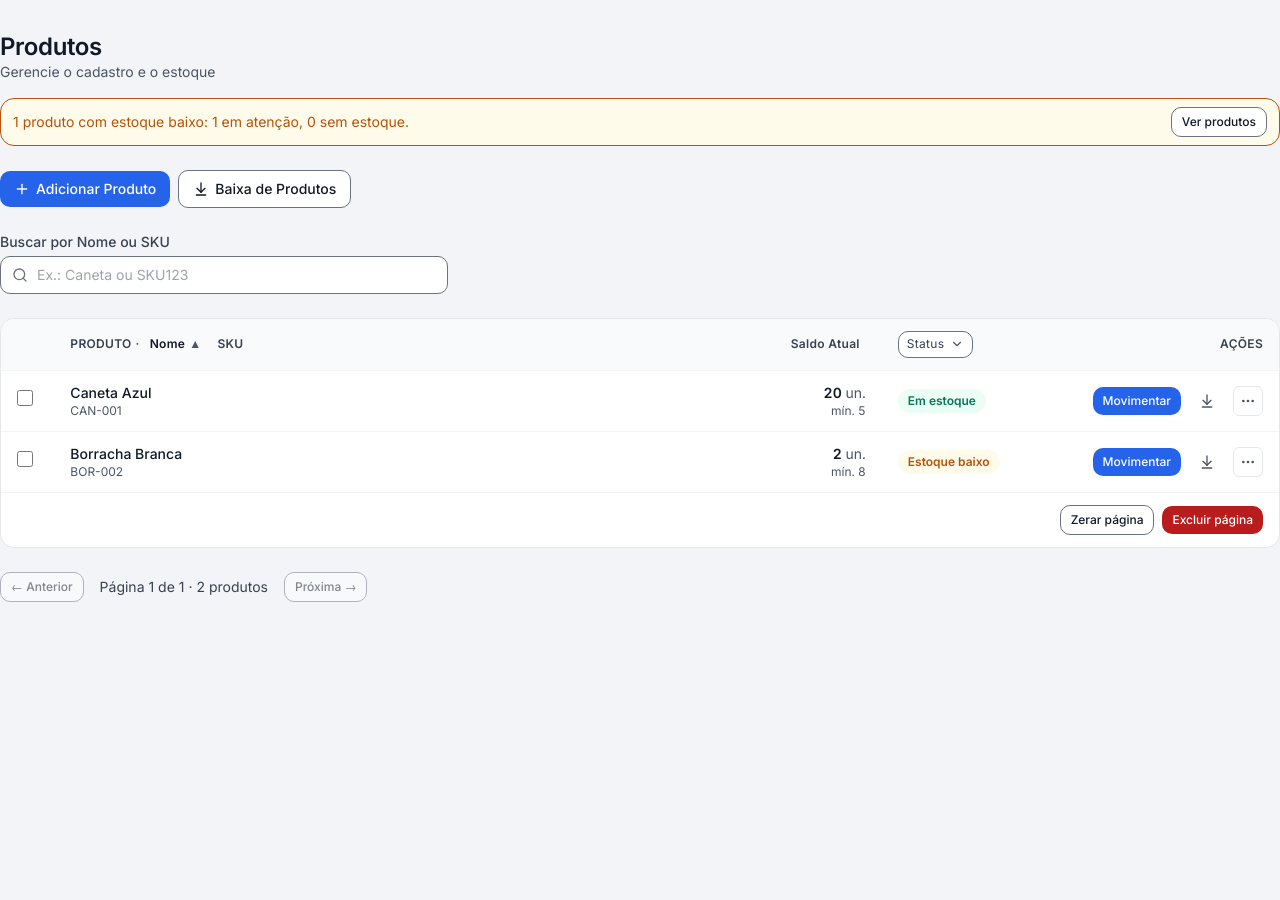
Test: ProductDashboard — cada ação de linha abre o diálogo correspondente (PD-2) › PD-2 · "Ver Histórico" abre o histórico de movimentações
Expected: the checkbox named "Selecionar Caneta Azul" is shown, [17,390,33,406]
Click the button named "Mais ações para Caneta Azul".
click(1248, 401)  # box [1233,386,1263,416]
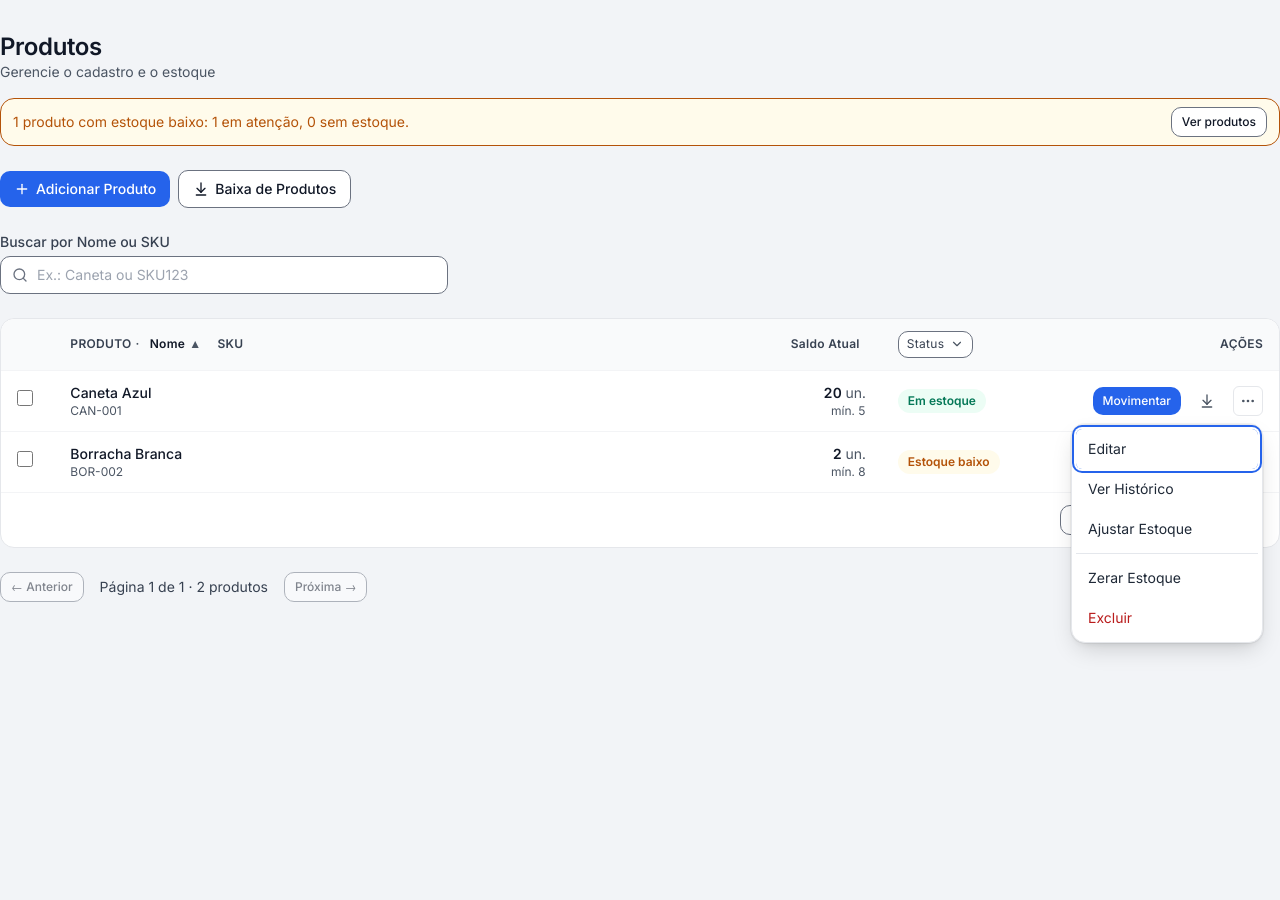
Click the menu item "Ver Histórico".
click(1167, 489)  # box [1076,469,1258,509]
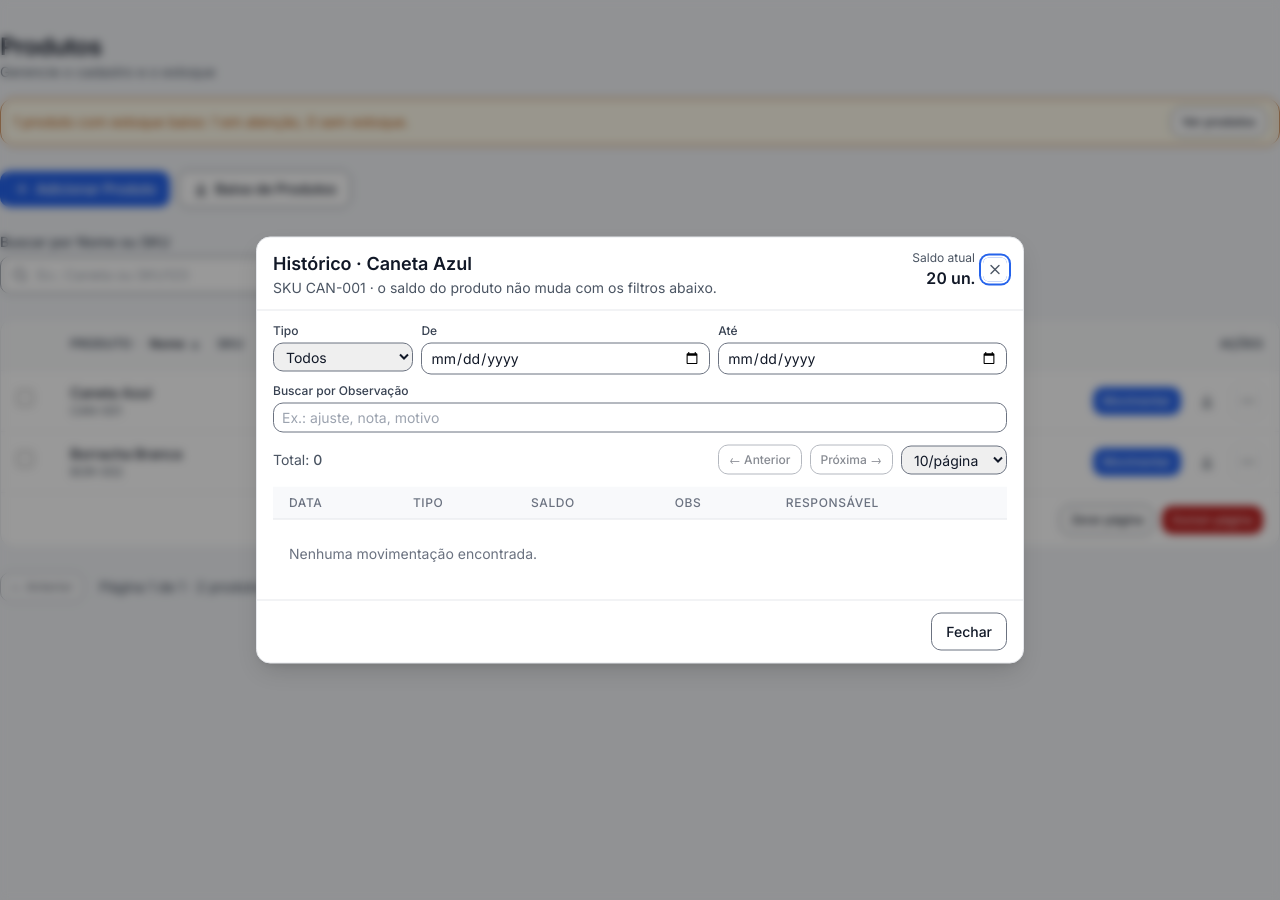
Expected: the dialog "Histórico · Caneta Azul" is shown, [256,236,1024,664]
